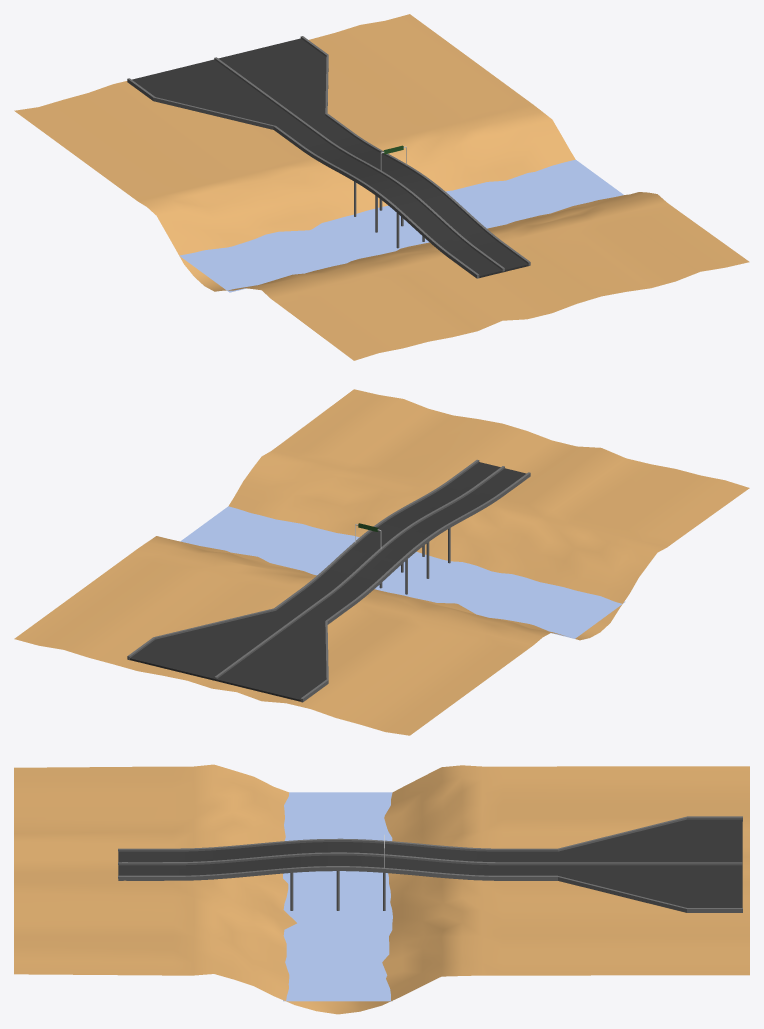
File: GamesE_E03_Mapa.fbx
3 renders of one model, top to bottom at view 1: azimuth 30°, elevation 25°; view 2: azimuth 150°, elevation 25°; view 3: azimuth 270°, elevation 25°, orthographic. The views are drawn at different scales.
Parts seen in each view (by area): view 1: Rio, Puente, Awa, Pared; view 2: Rio, Puente, Awa, Pared; view 3: Rio, Puente, Awa, Pared.
Part boxes in pixels (bbox=[...]): Rio: bbox=[14, 14, 749, 360]; Puente: bbox=[132, 38, 528, 277]; Awa: bbox=[179, 159, 623, 292]; Pared: bbox=[127, 36, 530, 278]; Rio: bbox=[14, 389, 749, 735]; Puente: bbox=[130, 462, 526, 701]; Awa: bbox=[180, 506, 625, 638]; Pared: bbox=[127, 459, 530, 702]; Rio: bbox=[14, 764, 749, 1014]; Puente: bbox=[118, 819, 742, 907]; Awa: bbox=[283, 792, 392, 1001]; Pared: bbox=[118, 816, 742, 912].
Size of the model in its own units: 1152 by 1714 by 203.
